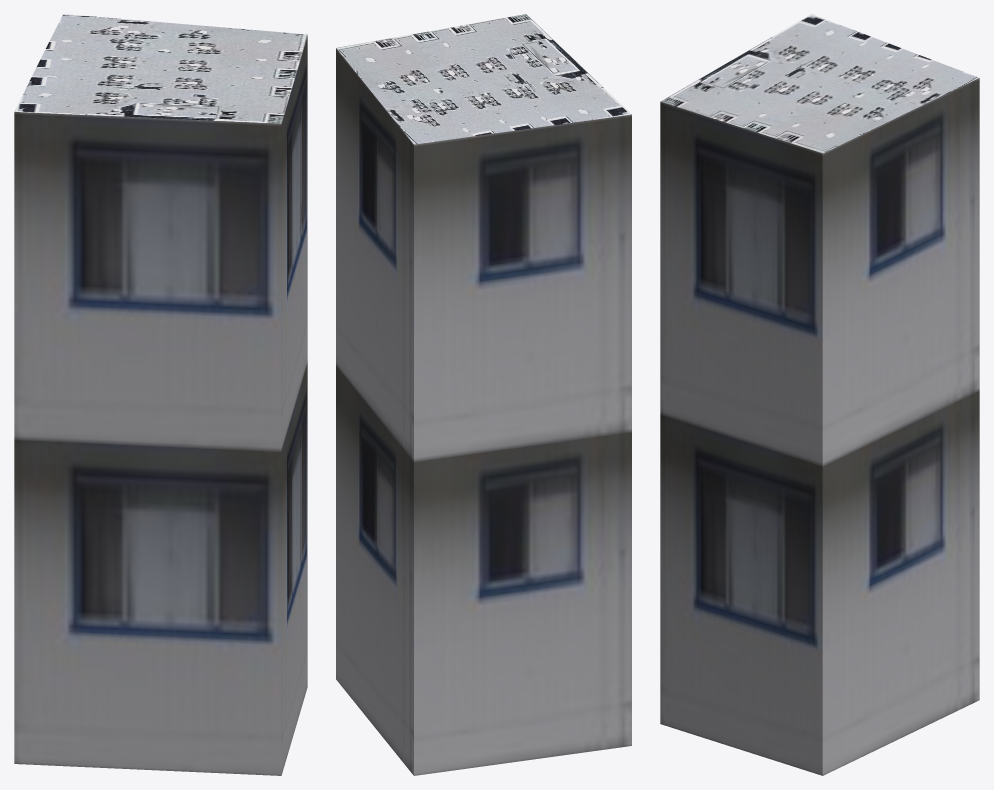
File: ResTex__1245.fbx
The picture shows the model from 3 angles, left to right: view 1: azimuth 30°, elevation 25°; view 2: azimuth 150°, elevation 25°; view 3: azimuth 270°, elevation 25°; orthographic projection. The views are drawn at different scales.
Visible parts, largest first — view 1: CityEngineMaterial_9_m, CityEngineMaterial_8_m; view 2: CityEngineMaterial_9_m, CityEngineMaterial_8_m; view 3: CityEngineMaterial_9_m, CityEngineMaterial_8_m.
Boxes of the visible parts, bbox=[...] form: CityEngineMaterial_9_m: bbox=[14, 36, 307, 775]; CityEngineMaterial_8_m: bbox=[14, 14, 307, 123]; CityEngineMaterial_9_m: bbox=[336, 48, 631, 775]; CityEngineMaterial_8_m: bbox=[336, 14, 631, 144]; CityEngineMaterial_9_m: bbox=[660, 78, 979, 775]; CityEngineMaterial_8_m: bbox=[661, 14, 979, 153].
Bounding box in the file's own units: 2.88 × 6 × 2.79.
Materials: 2 (2 with a texture image).
